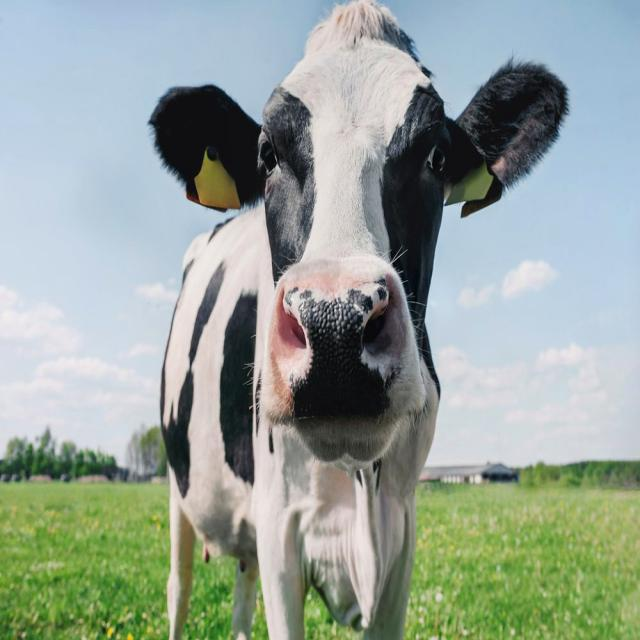cow: (150, 0, 568, 639)
